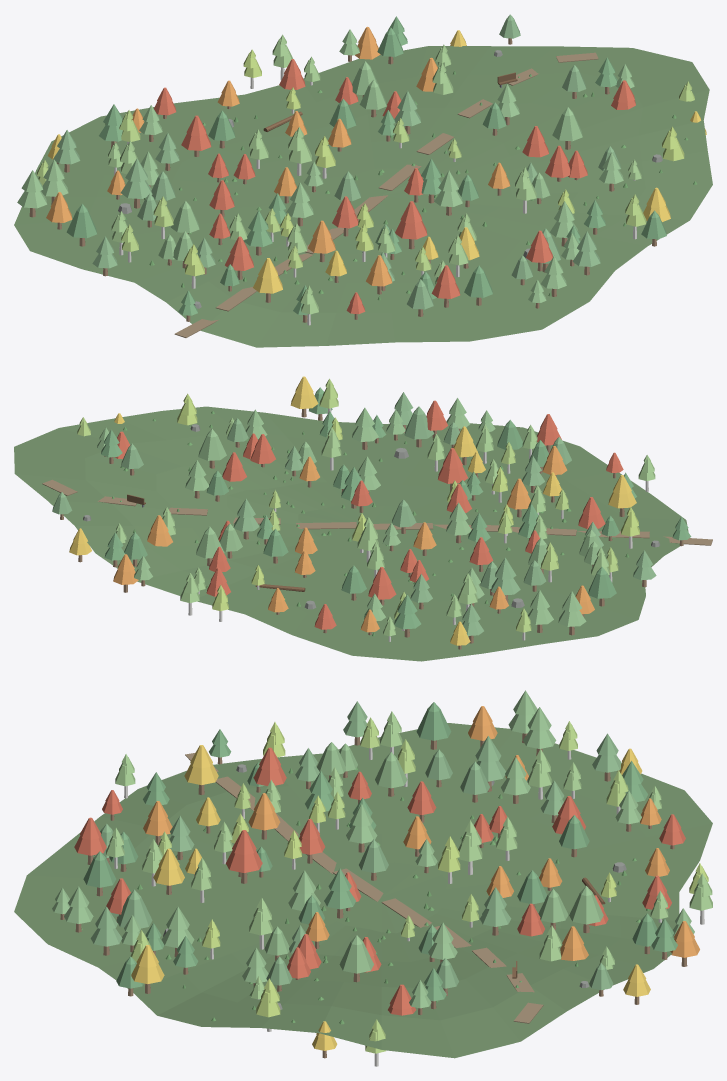
Rendered from east-woods.glb.
3 renders of one model, top to bottom at view 1: azimuth 30°, elevation 25°; view 2: azimuth 150°, elevation 25°; view 3: azimuth 270°, elevation 25°, orthographic. The views are drawn at different scales.
Visible parts, largest first — view 1: east_woods_batched.001; view 2: east_woods_batched.001; view 3: east_woods_batched.001.
Part boxes in pixels (bbox=[...]): east_woods_batched.001: bbox=[14, 14, 712, 347]; east_woods_batched.001: bbox=[14, 376, 712, 661]; east_woods_batched.001: bbox=[14, 690, 712, 1066].
Bounding box in the file's own units: 123 × 13.41 × 99.95.
